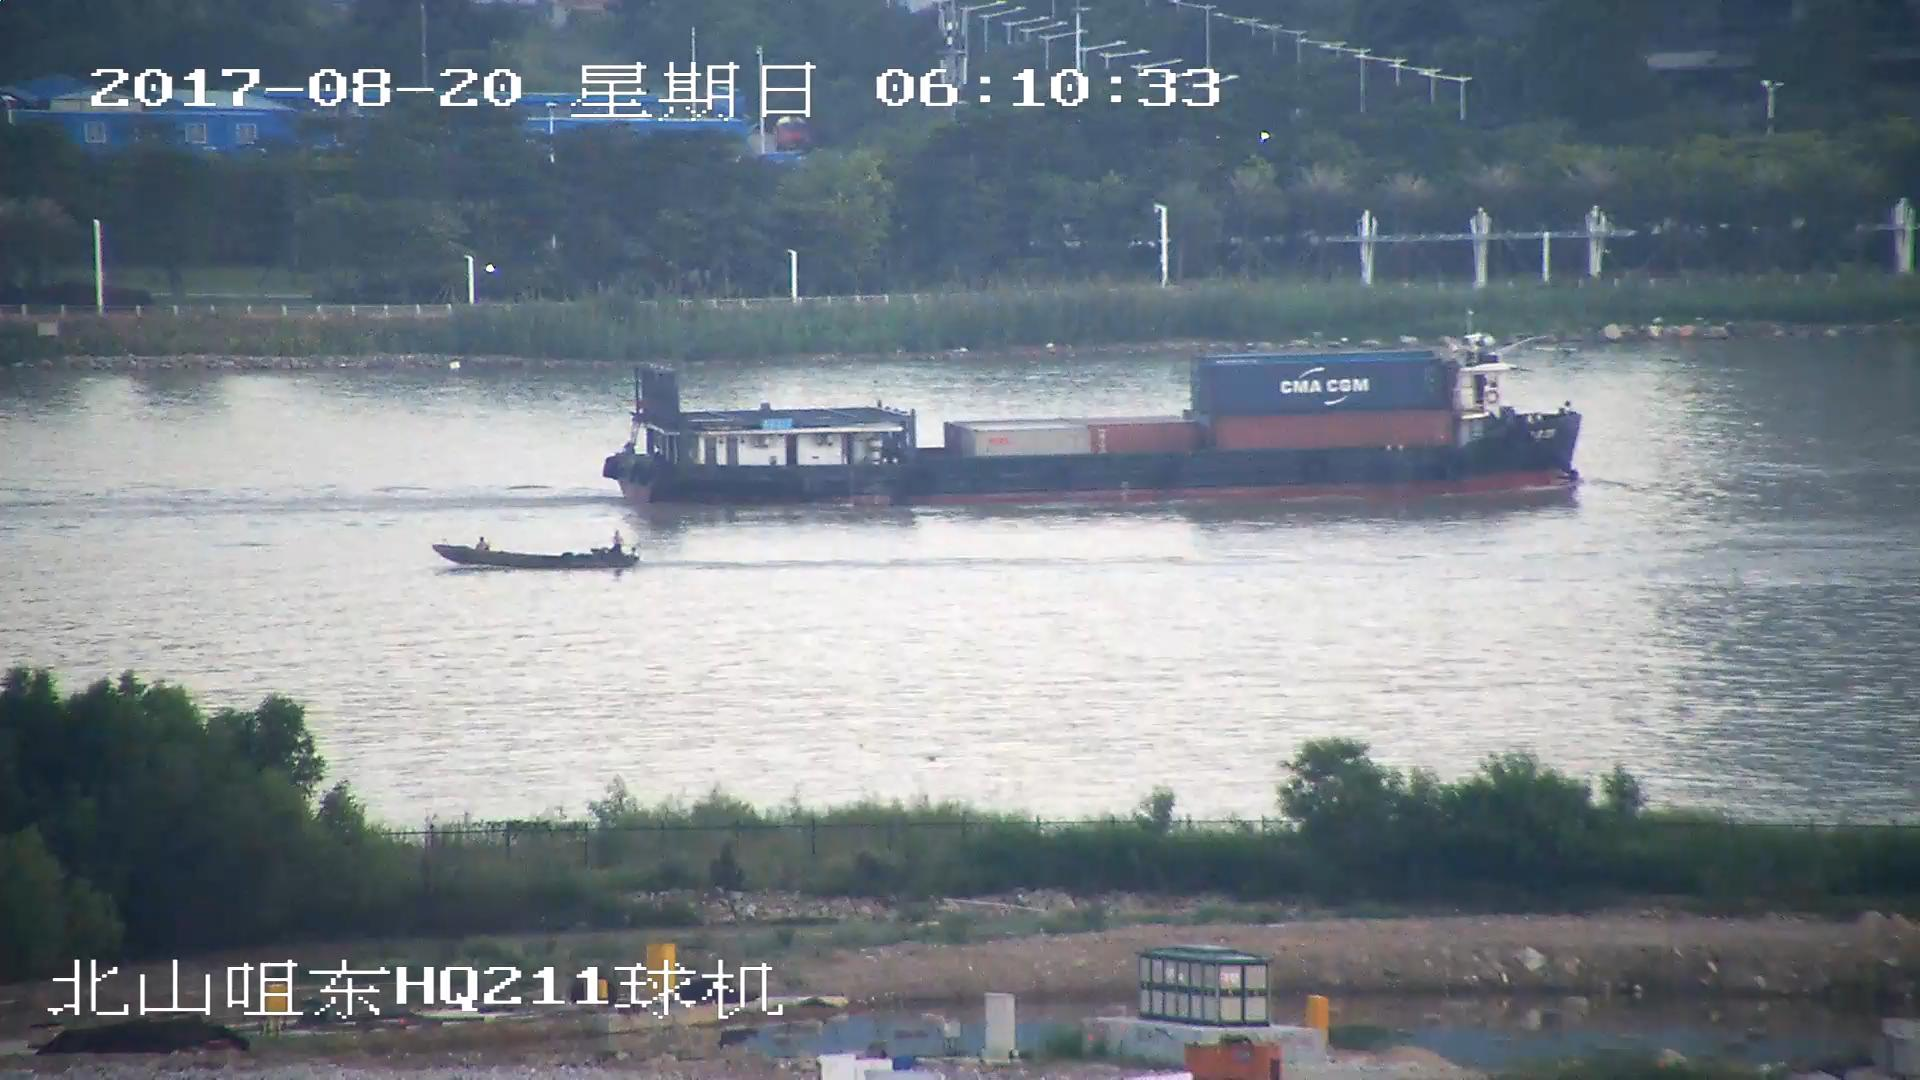Ship: (601, 327, 1593, 518), (434, 531, 640, 582)
